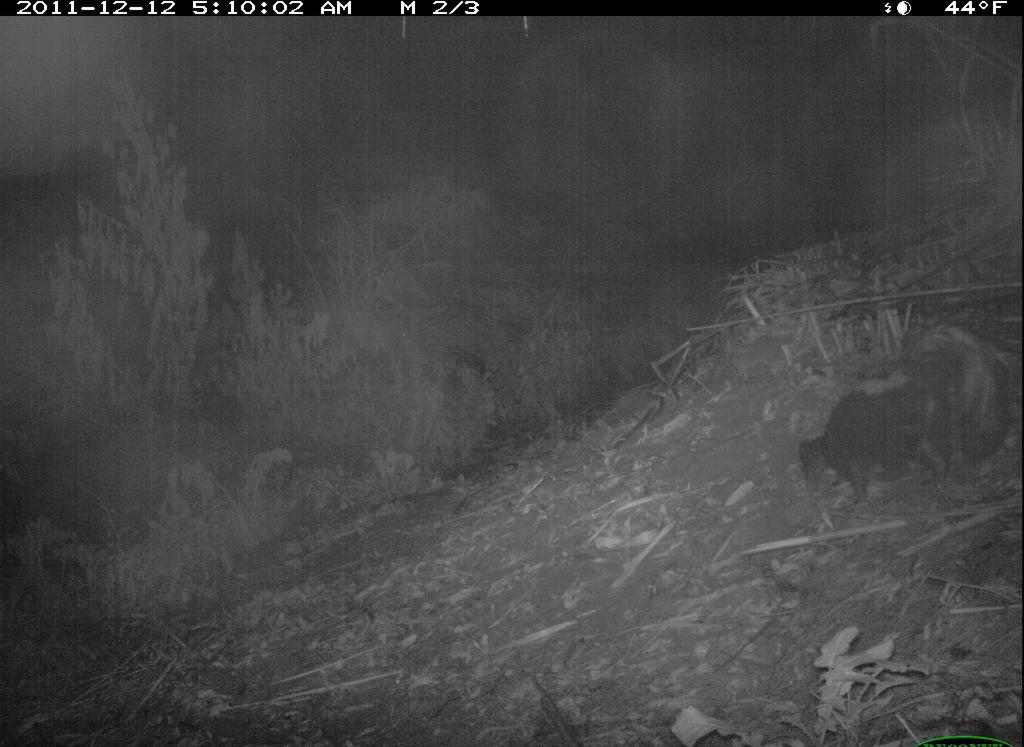skunk: (781, 318, 1023, 528)
